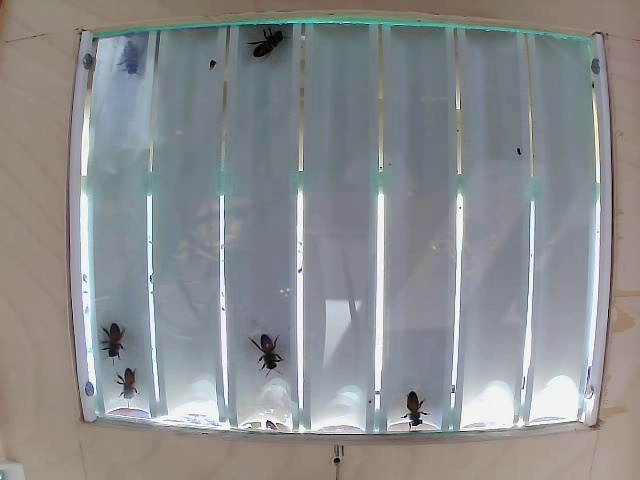bee: (252, 330, 293, 378), (92, 313, 134, 354), (249, 24, 288, 66), (399, 386, 436, 427), (118, 360, 140, 401)
